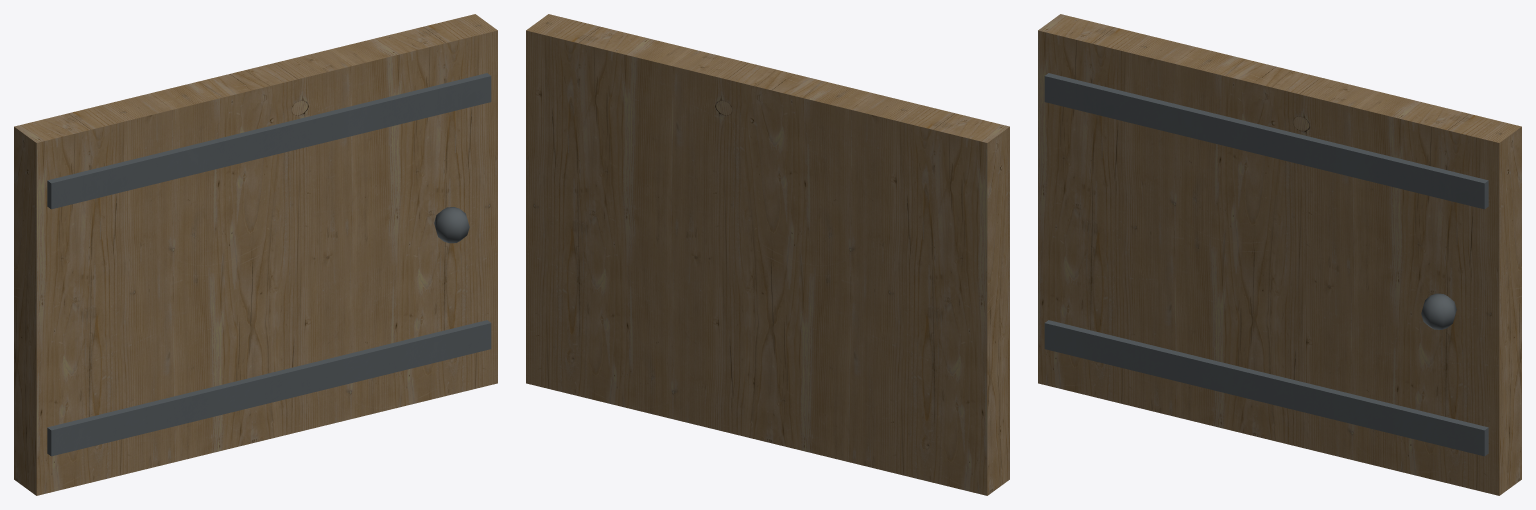
Rendered from build_gate_leaf.glb.
3 views of the same model, side by side, from view 1: azimuth 30°, elevation 25°; view 2: azimuth 150°, elevation 25°; view 3: azimuth 330°, elevation 25° (orthographic).
Visible parts, largest first — view 1: gate_leaf; view 2: gate_leaf; view 3: gate_leaf.
Boxes of the visible parts, box(x1,y1,x2,y2) form: gate_leaf: box(14, 14, 497, 495); gate_leaf: box(526, 14, 1009, 495); gate_leaf: box(1038, 14, 1521, 495).
Size of the model in its own units: 1.3 by 0.95 by 0.19.
Materials: 2 (2 with a texture image).
